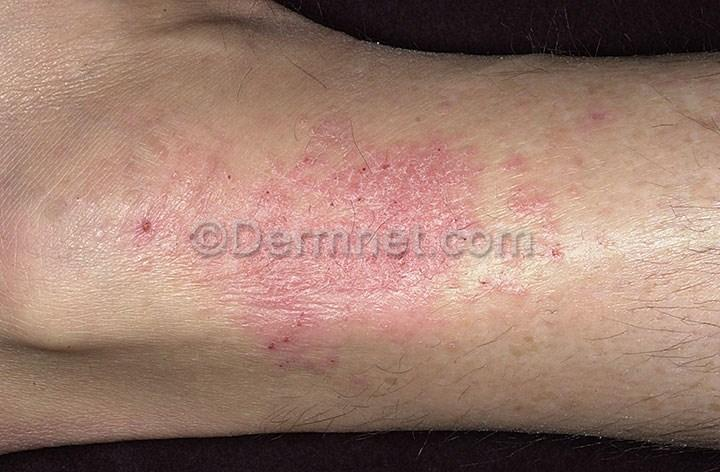Eczema: (184, 259, 484, 364), (74, 131, 190, 293), (361, 115, 520, 228), (194, 137, 365, 232), (525, 70, 611, 233)
